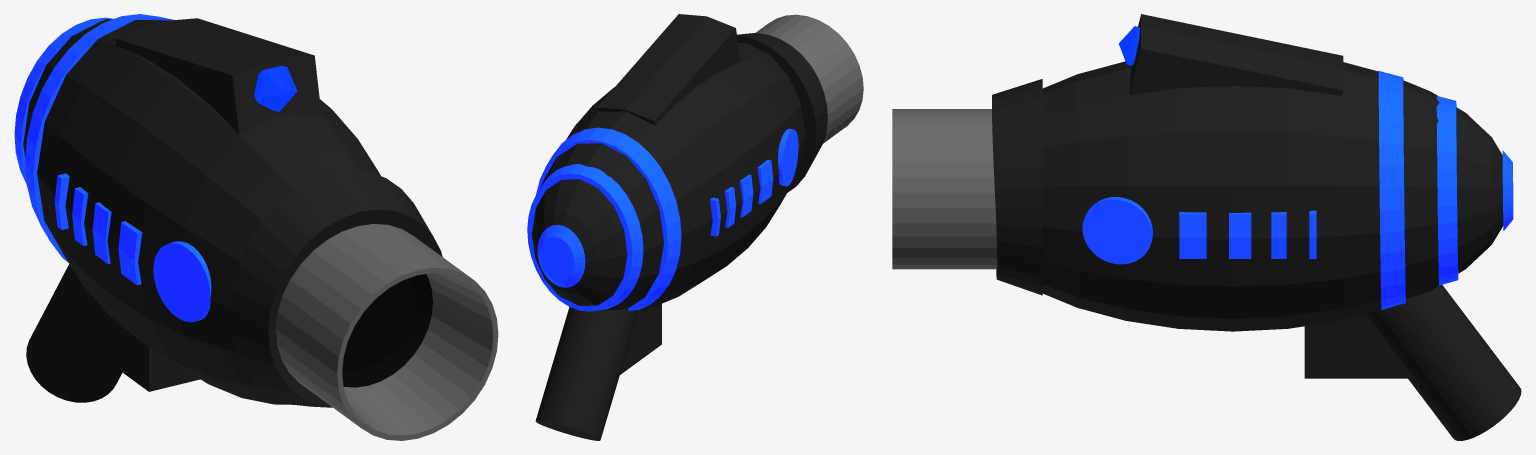
Rendered from Regular Gun.fbx.
3 views of the same model, side by side, from view 1: azimuth 30°, elevation 25°; view 2: azimuth 150°, elevation 25°; view 3: azimuth 270°, elevation 25° (orthographic). The views are drawn at different scales.
Visible parts, largest first — view 1: Cylinder.002, Cylinder.003, Cylinder.004; view 2: Cylinder.002, Cylinder.004, Cylinder.003; view 3: Cylinder.002, Cylinder.004, Cylinder.003.
Part boxes in pixels (box(x1,y1,x2,y2)): Cylinder.002: box(23, 18, 442, 407); Cylinder.003: box(275, 224, 498, 440); Cylinder.004: box(14, 14, 211, 322); Cylinder.002: box(532, 14, 827, 440); Cylinder.004: box(527, 127, 798, 311); Cylinder.003: box(756, 14, 863, 143); Cylinder.002: box(992, 14, 1521, 440); Cylinder.004: box(1082, 71, 1513, 310); Cylinder.003: box(892, 109, 997, 269).
Size of the model in its own units: 50.63 by 98.03 by 137.
